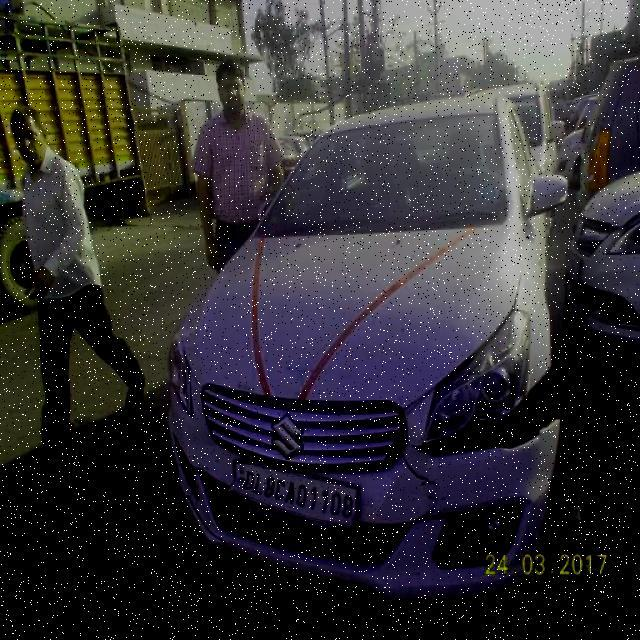car damage: (412, 368, 562, 459)
